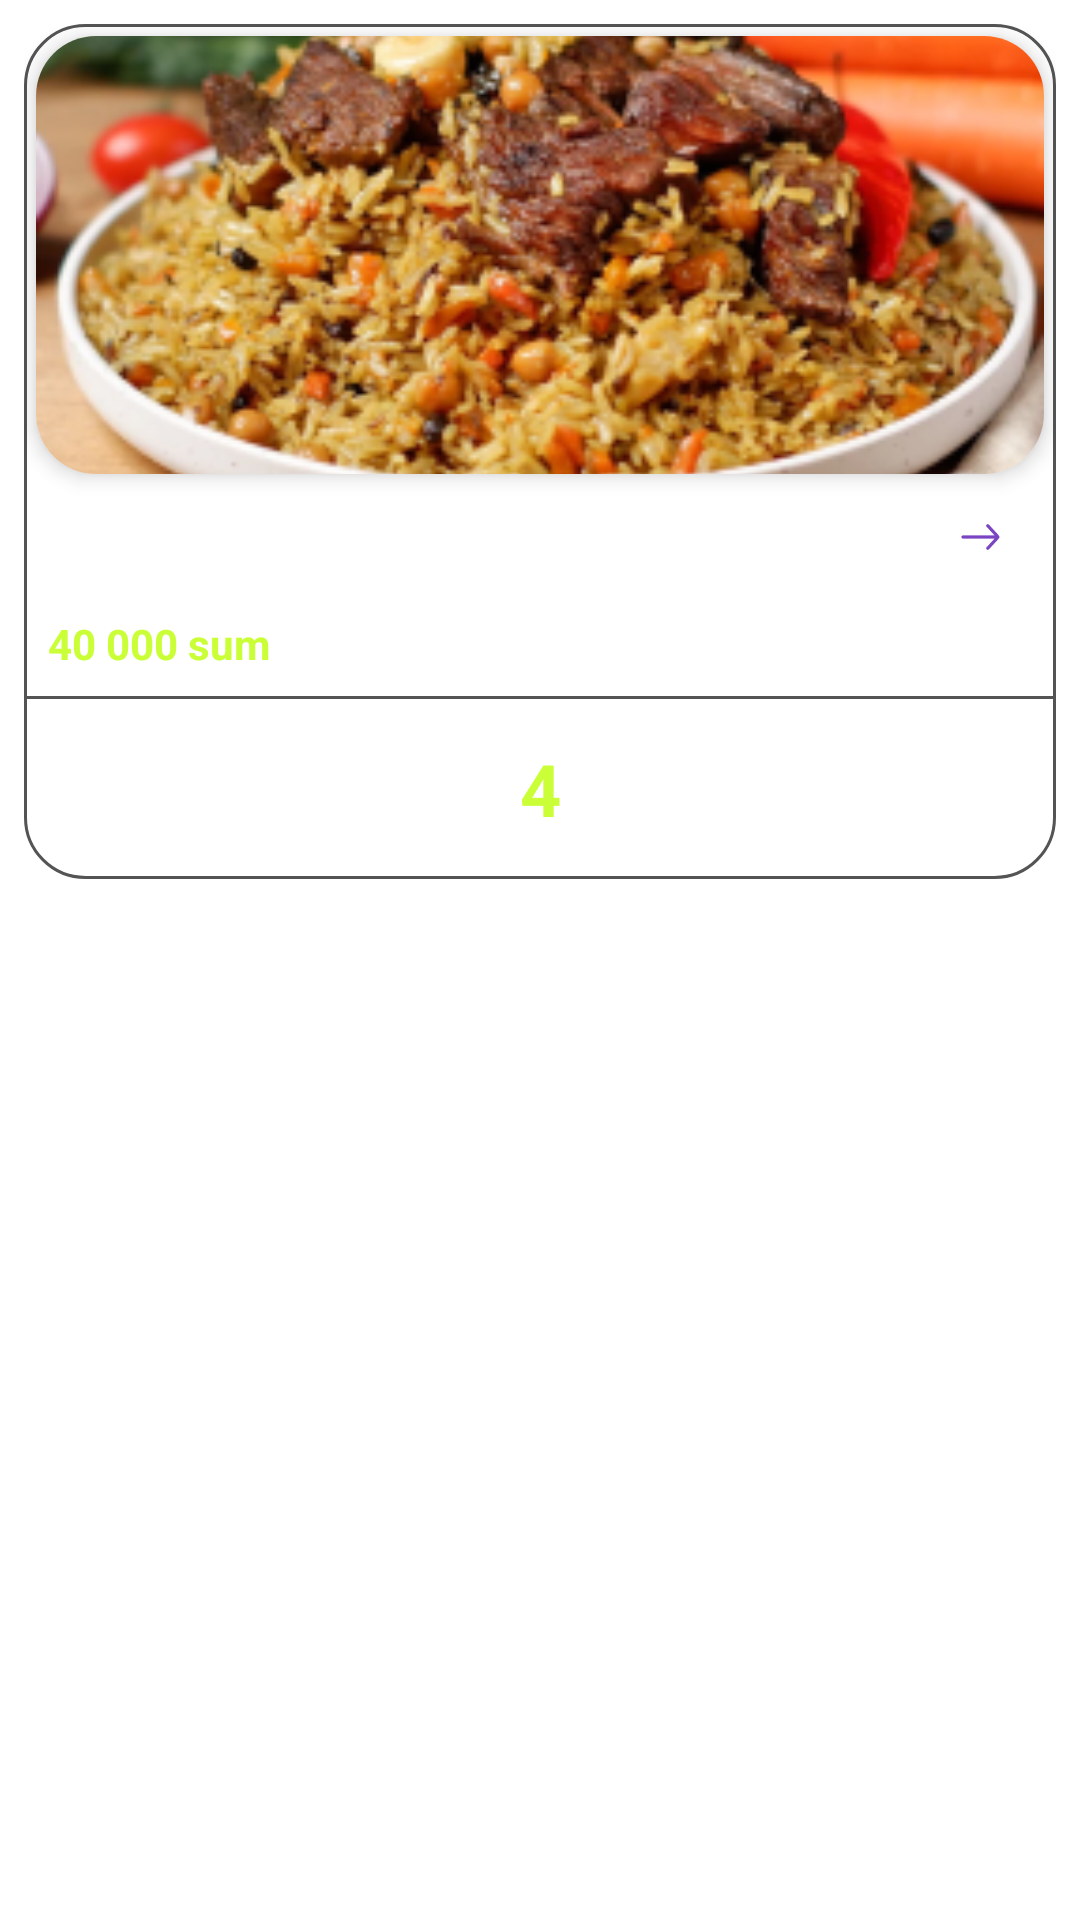

Where icons sit on this 1080w x 1920h app screen, as box=[x1, y1, x2, y2]:
arrow right line: box=[961, 524, 1000, 550]
